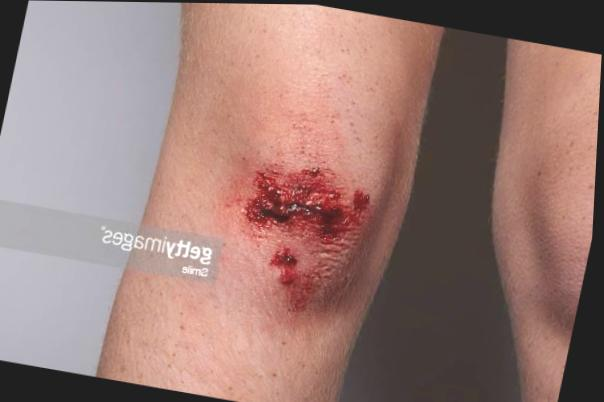Fire: (242, 165, 372, 306)
